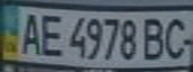4: (63, 12, 87, 59)
7: (103, 15, 121, 61)
8: (118, 15, 142, 62)
9: (81, 15, 106, 61)
A: (15, 9, 45, 56)
B: (139, 15, 172, 61)
C: (160, 14, 193, 61)
E: (36, 10, 66, 56)
